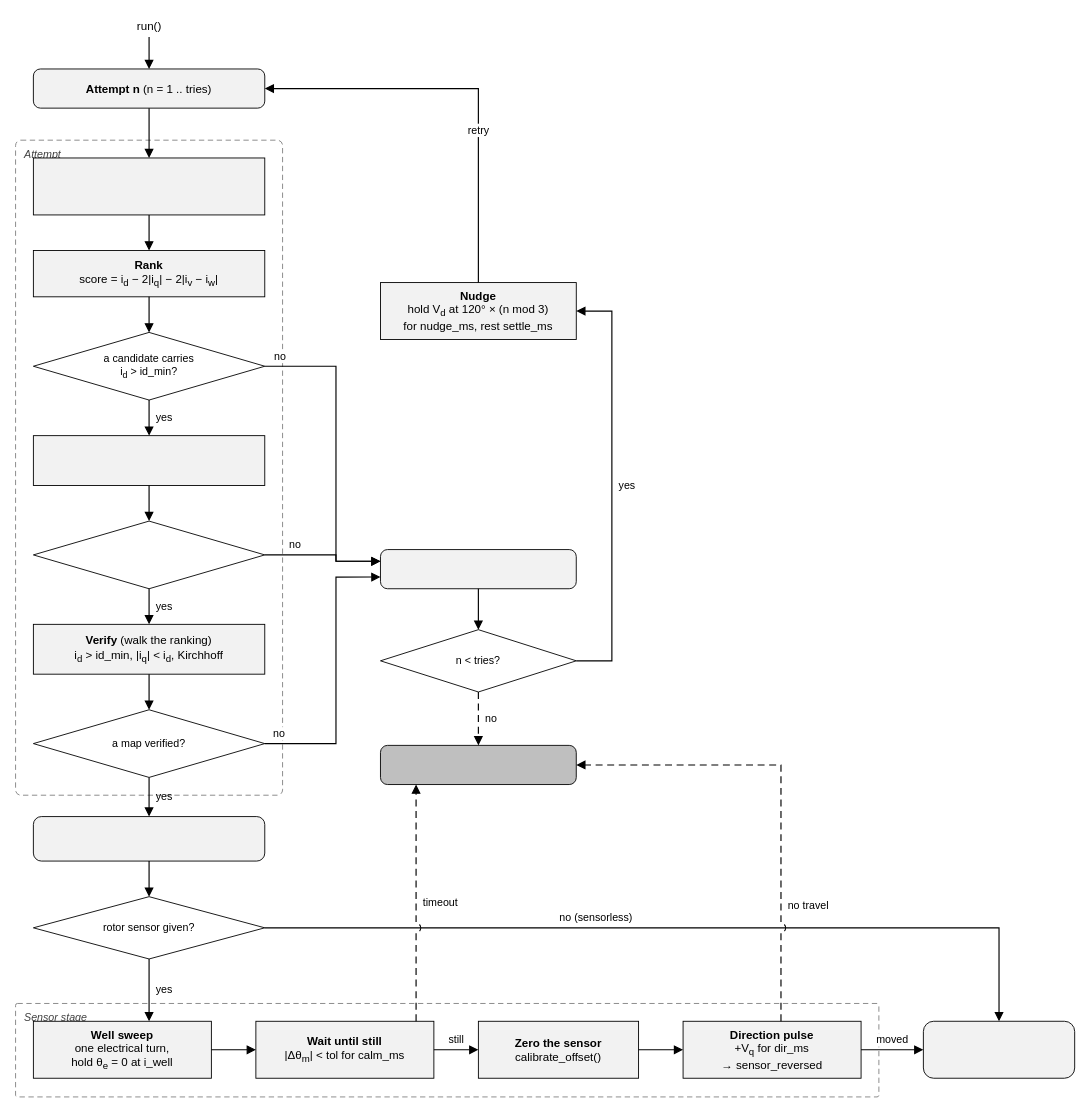
The diagram is 1090 pixels wide and 1113 high, and some of its shapes have lost their labels. Here are the shapes that lost their labels. From the top down, the box of each, then its label:
(32, 157, 265, 215): Stage A : 12 candidate maps (6 orders × 2 signs) ±V d pulse pair at θ e = 0
(32, 435, 265, 485): Stage C : handedness +V q on the best map and its V↔W mirror
(32, 520, 265, 589): +V q gives +I q ?
(380, 549, 576, 589): Attempt refused
(380, 744, 576, 785): Fail , bridge off
(32, 816, 265, 861): Accepted map applied to the inverter
(922, 1020, 1075, 1078): Result bridge off, callbacks cleared
